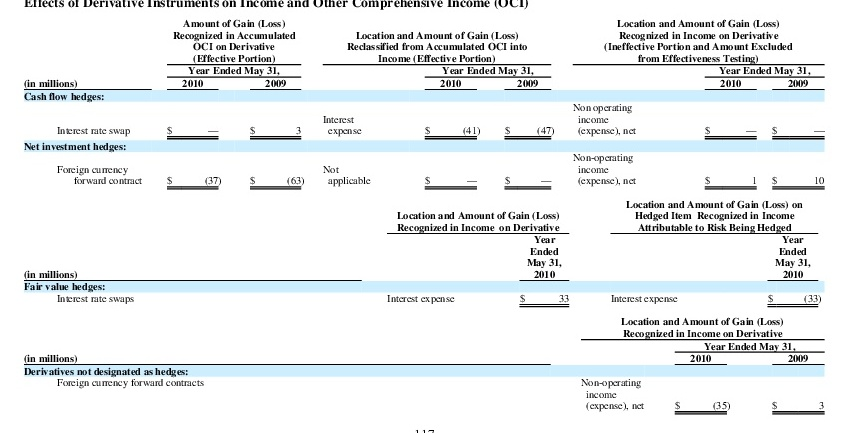table: (0, 0, 846, 433)
